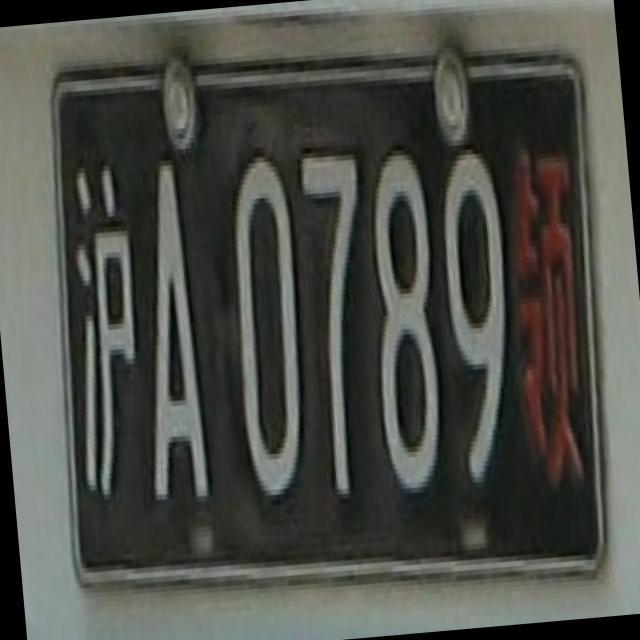License Plate: (27, 15, 625, 593)
